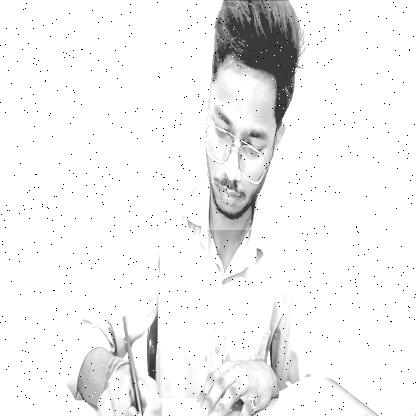Distracted: (203, 1, 302, 230)
